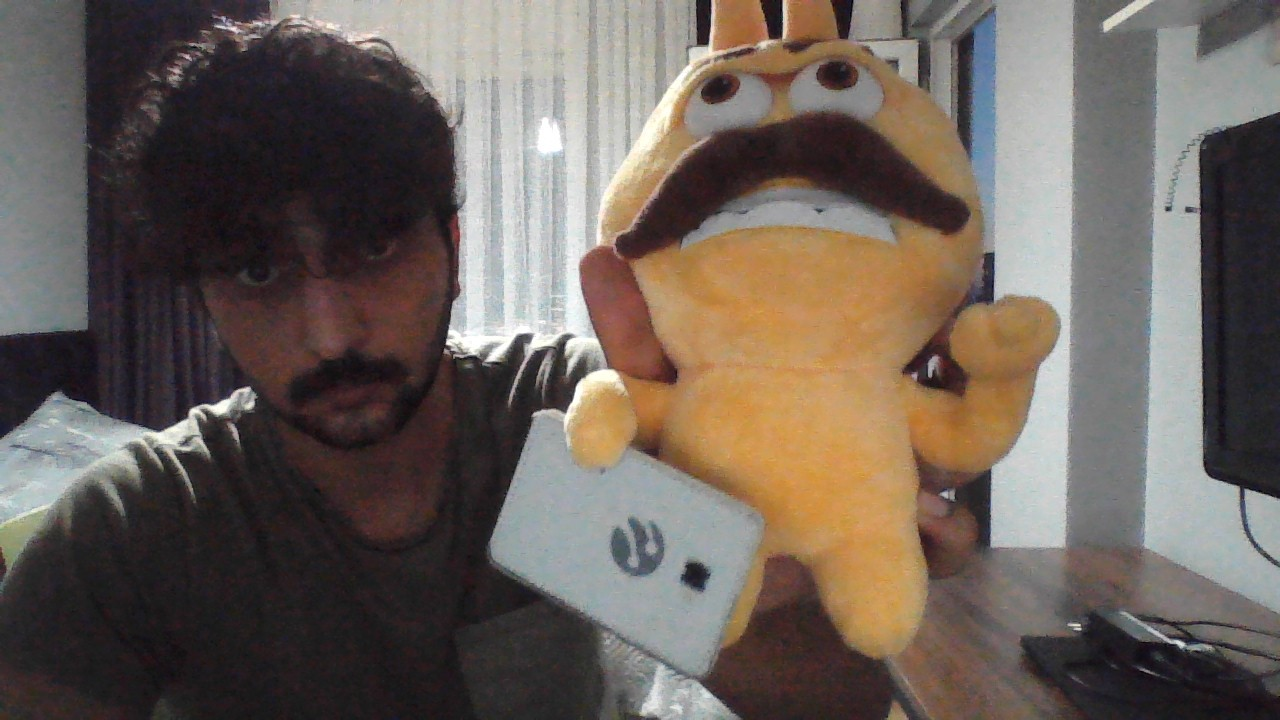turkcell: (603, 510, 671, 579)
